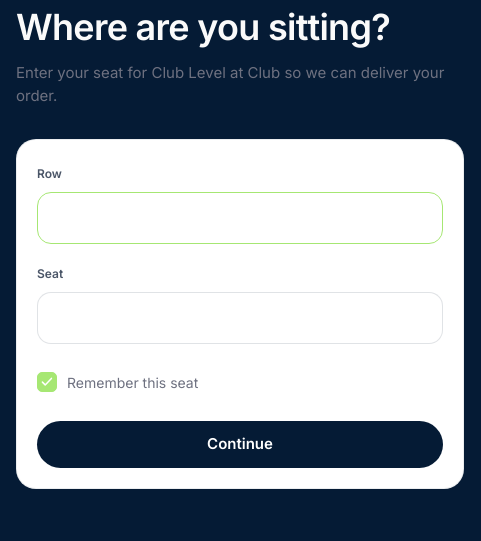
Test: MenuExperience seat gate › requires row and seat before opening the menu
The width and height of the screenshot is (481, 541).
Expected: the heading "Where are you sitting?" is shown, top-left (16, 5), bottom-right (390, 49)
Click the button "Continue": click(240, 444) top-left (37, 421), bottom-right (443, 468)
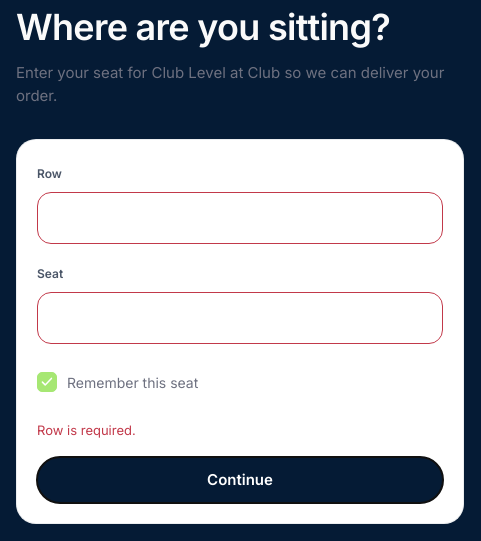
Expected: the text "Row is required." is shown, top-left (37, 422), bottom-right (136, 438)
